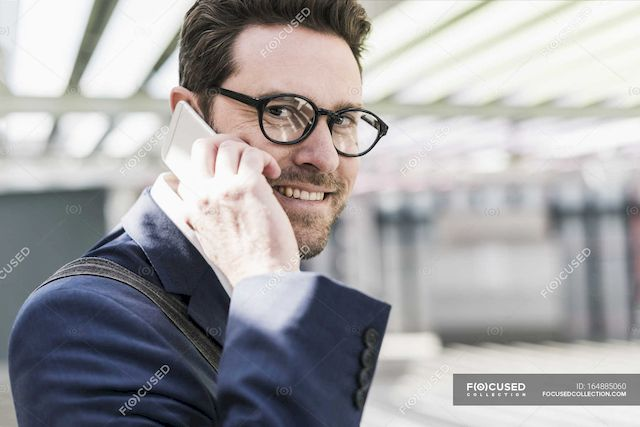phone: (165, 109, 250, 212)
talk: (157, 69, 368, 282)
